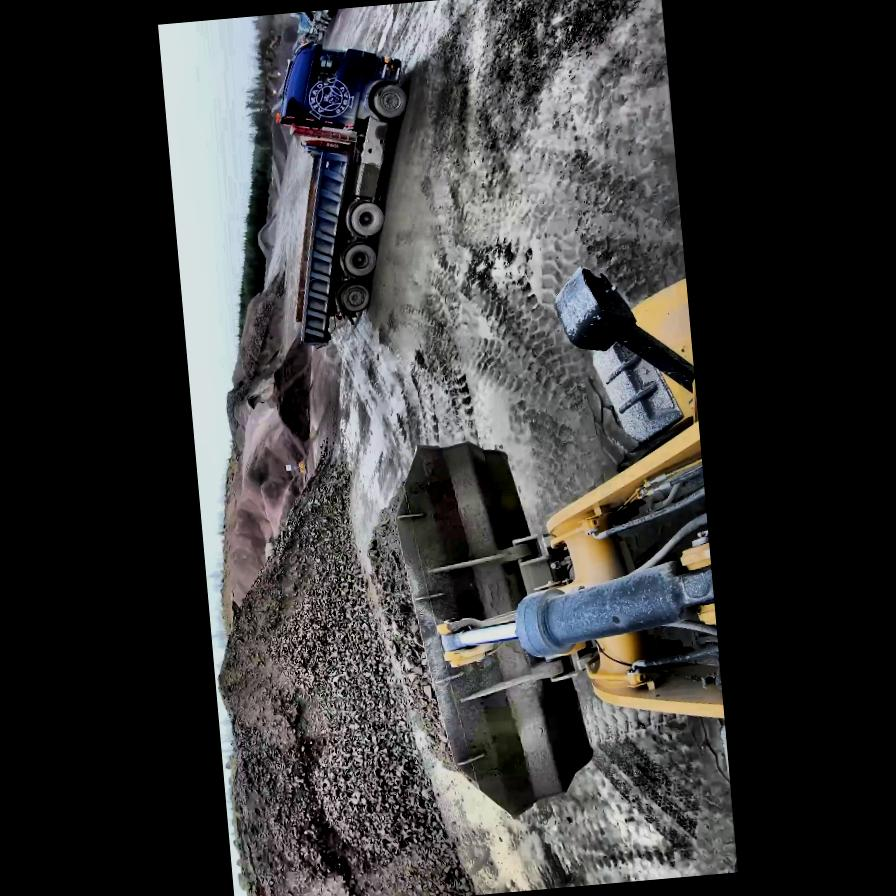anchor: (436, 614, 514, 669)
pile of gravel: (204, 457, 480, 896), (202, 268, 340, 504), (255, 210, 281, 264)
